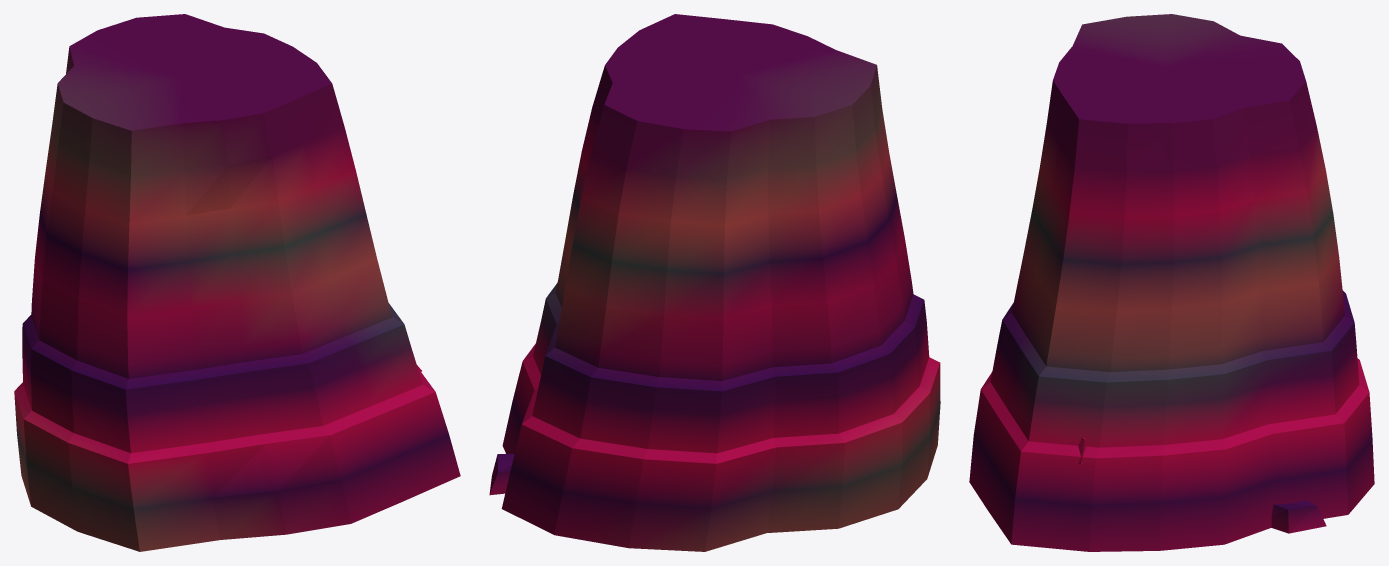
Rendered from SM_CinderCanyon_Rock_D_LOD1.fbx.
3 renders of one model, left to right at view 1: azimuth 30°, elevation 25°; view 2: azimuth 150°, elevation 25°; view 3: azimuth 270°, elevation 25°, orthographic. The views are drawn at different scales.
Parts seen in each view (by area): view 1: SM_CinderCanyon_Rock_D_LOD1; view 2: SM_CinderCanyon_Rock_D_LOD1; view 3: SM_CinderCanyon_Rock_D_LOD1.
Boxes of the visible parts, <box> form: SM_CinderCanyon_Rock_D_LOD1: <box>14,14,460,551</box>; SM_CinderCanyon_Rock_D_LOD1: <box>489,14,940,551</box>; SM_CinderCanyon_Rock_D_LOD1: <box>969,14,1374,551</box>.
Bounding box in the file's own units: 100 × 96 × 100.
